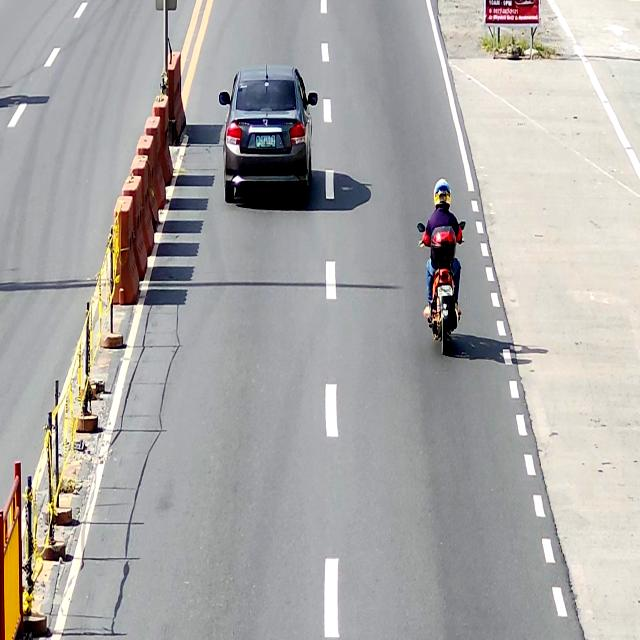Car: (218, 67, 318, 203)
License-Plate: (255, 132, 276, 148), (437, 284, 453, 298)
Motorcycle: (416, 220, 466, 358)
